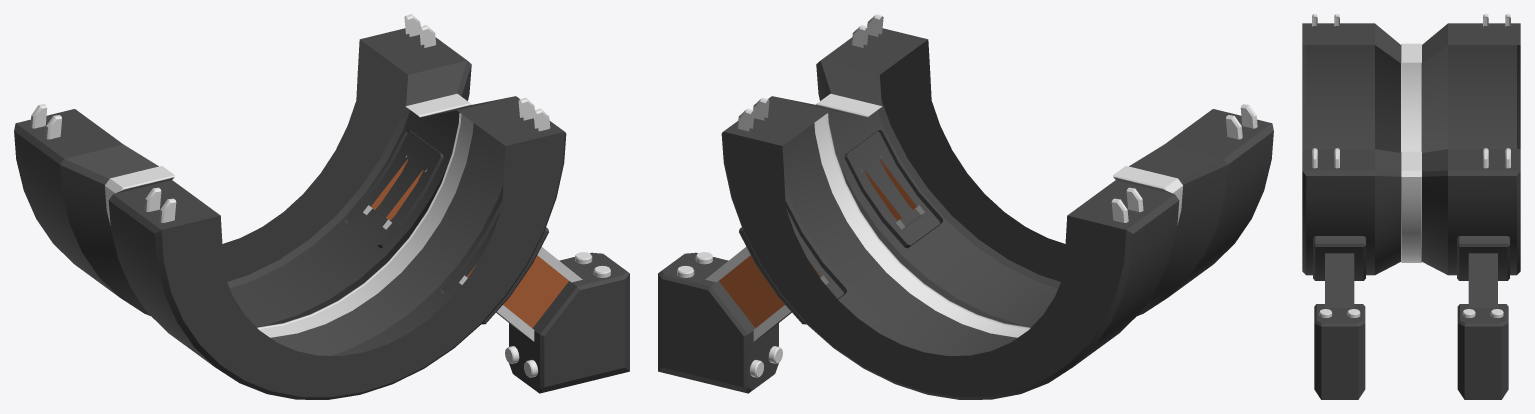
The model's file is env_building_tanksupport.fbx.
3 renders of one model, left to right at view 1: azimuth 30°, elevation 25°; view 2: azimuth 150°, elevation 25°; view 3: azimuth 270°, elevation 25°, orthographic. The views are drawn at different scales.
Parts seen in each view (by area): view 1: polySurface1464; view 2: polySurface1464; view 3: polySurface1464.
Boxes of the visible parts, box(x1,y1,x2,y2) form: polySurface1464: box(14, 14, 629, 399); polySurface1464: box(658, 14, 1273, 399); polySurface1464: box(1302, 14, 1520, 399).
Bounding box in the file's own units: 3.25 × 1.84 × 1.69.
